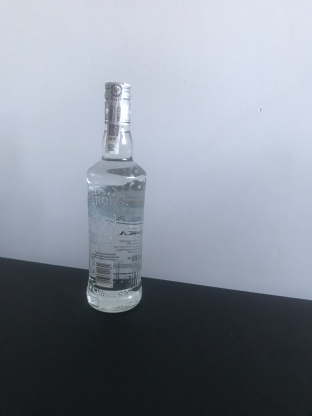nakretka: (102, 78, 133, 128)
